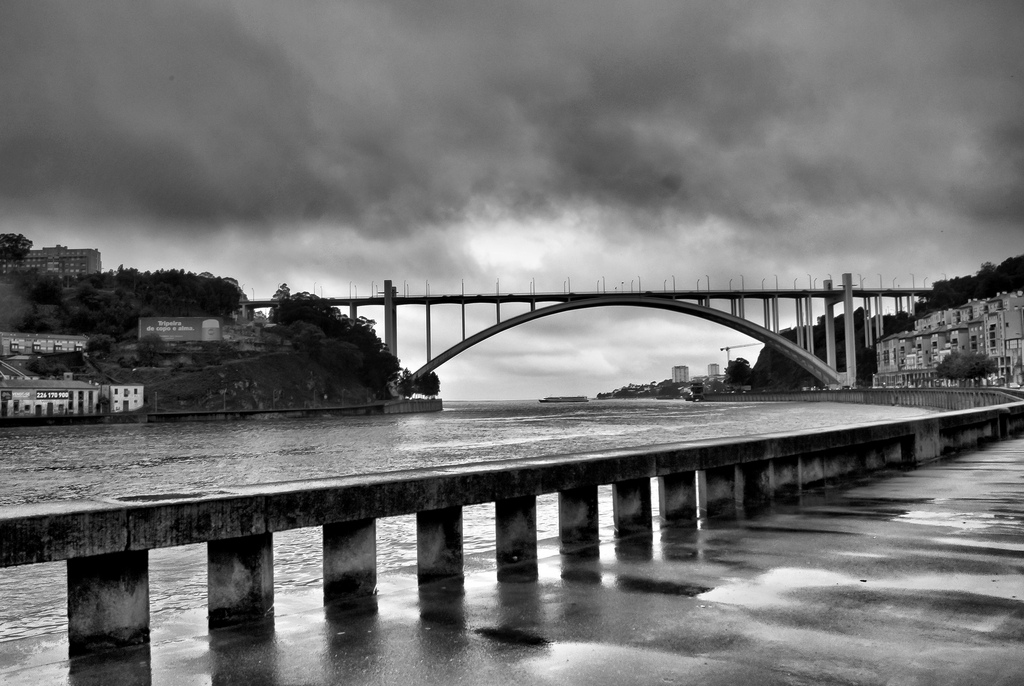arrabida: (303, 270, 936, 392)
